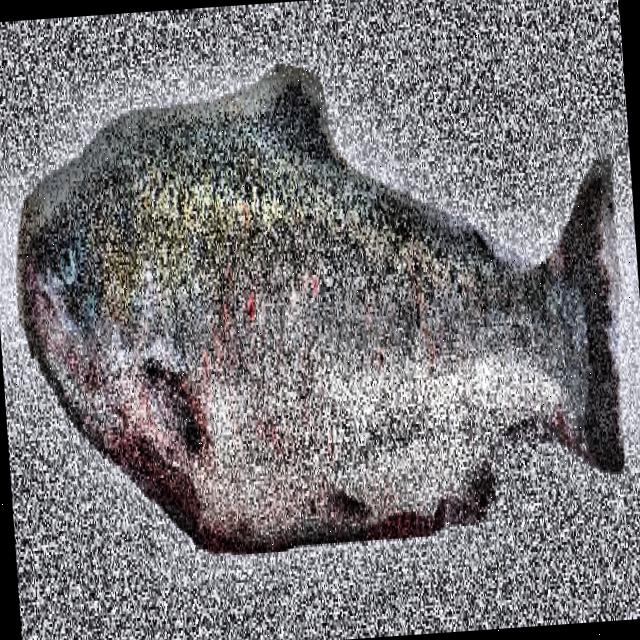mild_red: (96, 85, 591, 547)
wound: (113, 423, 200, 532), (362, 498, 457, 533), (164, 374, 201, 434)
